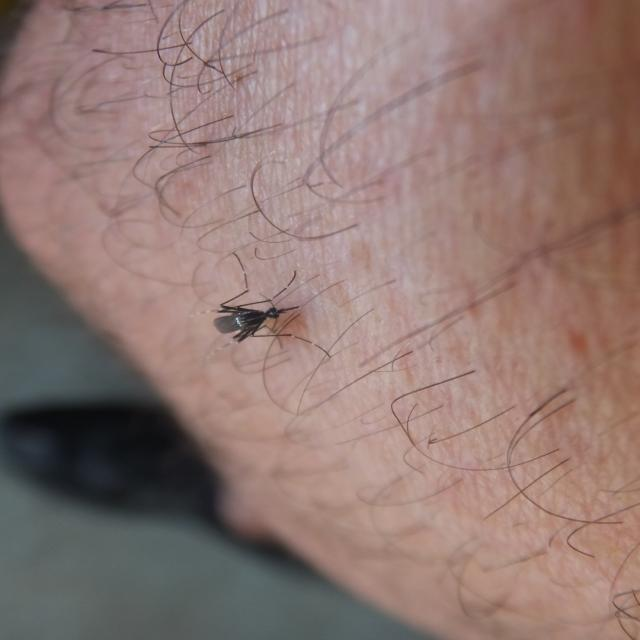albopictus: (186, 258, 353, 374)
